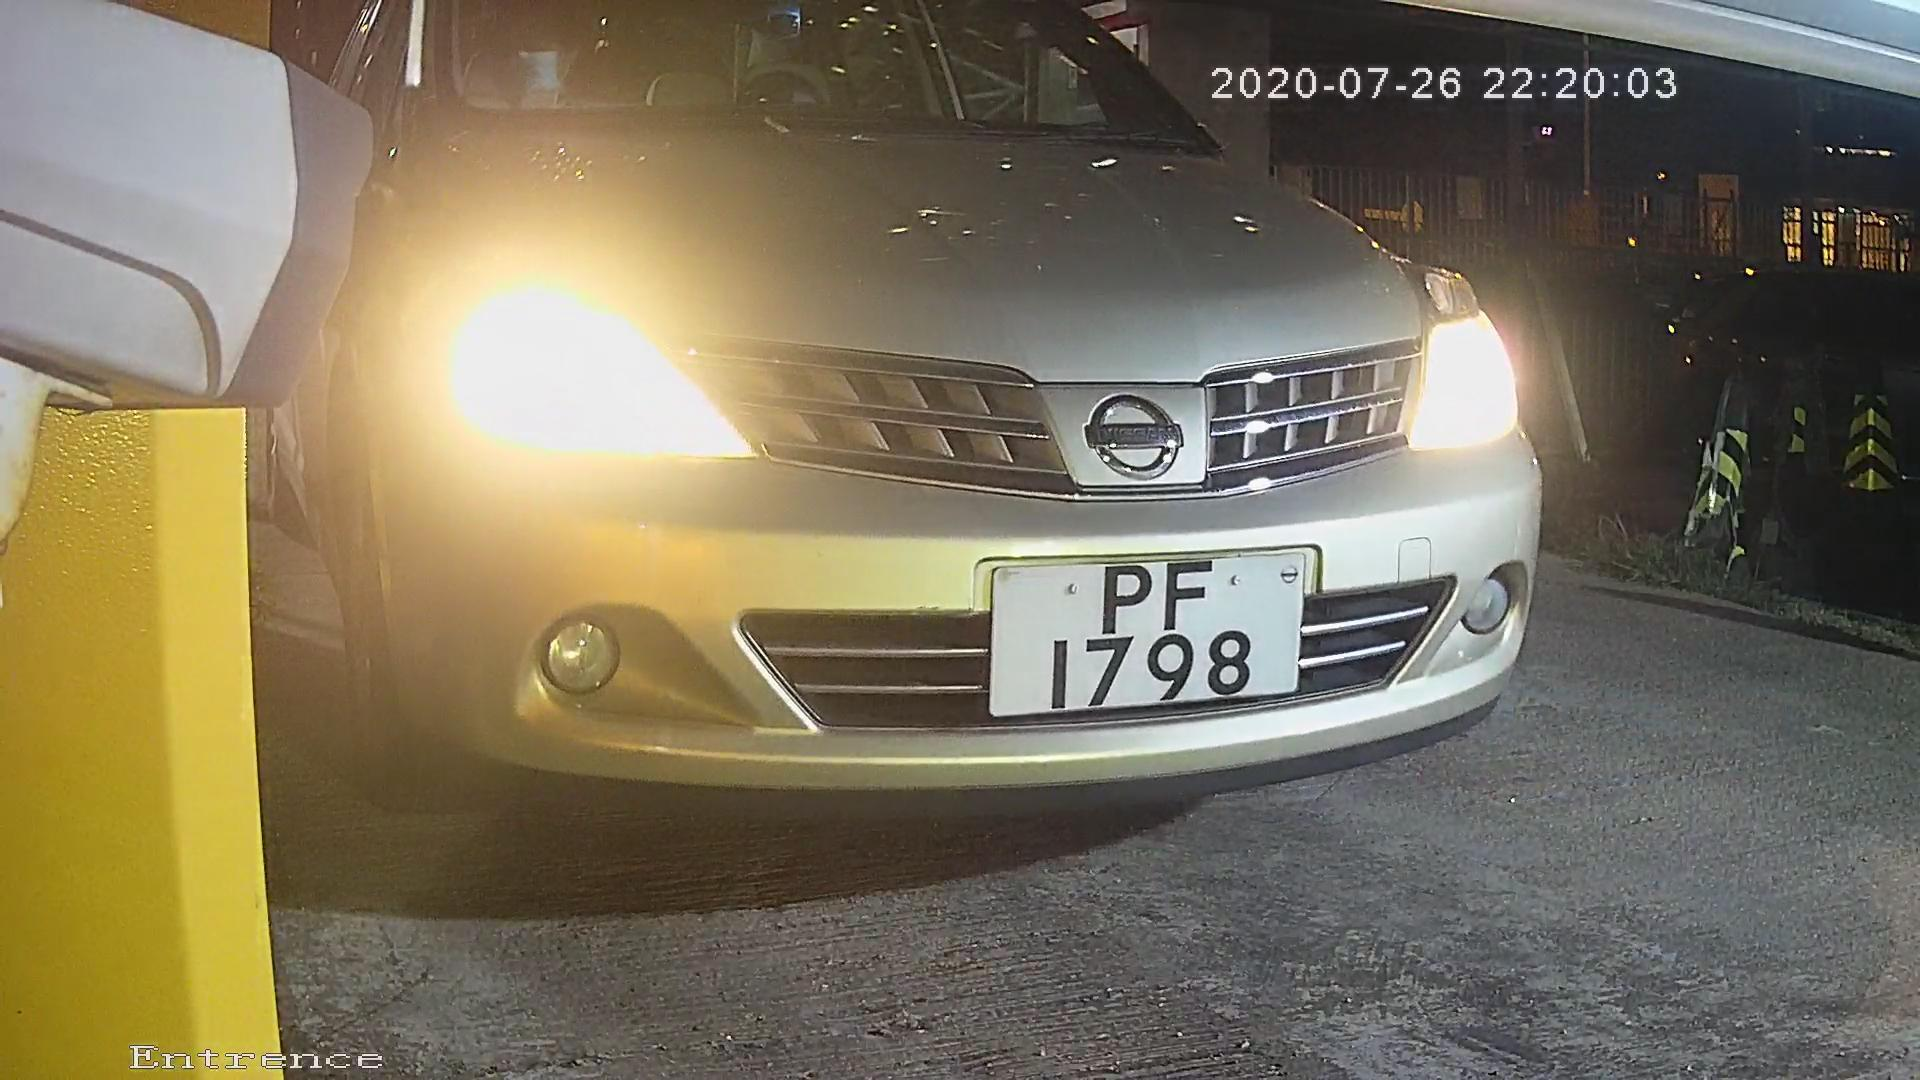Car: (103, 49, 1629, 907)
License Plate: (969, 536, 1321, 729)
